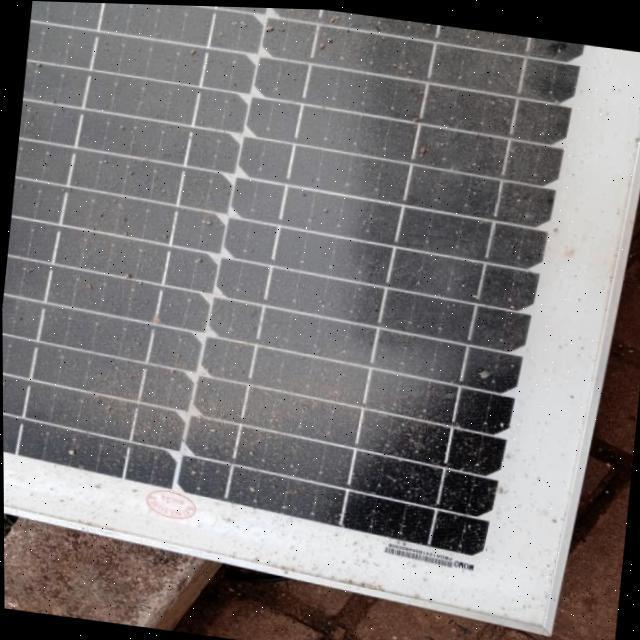Anomaly Solar Panel: (0, 0, 602, 581)
Surface Contaminant: (2, 1, 579, 541)
